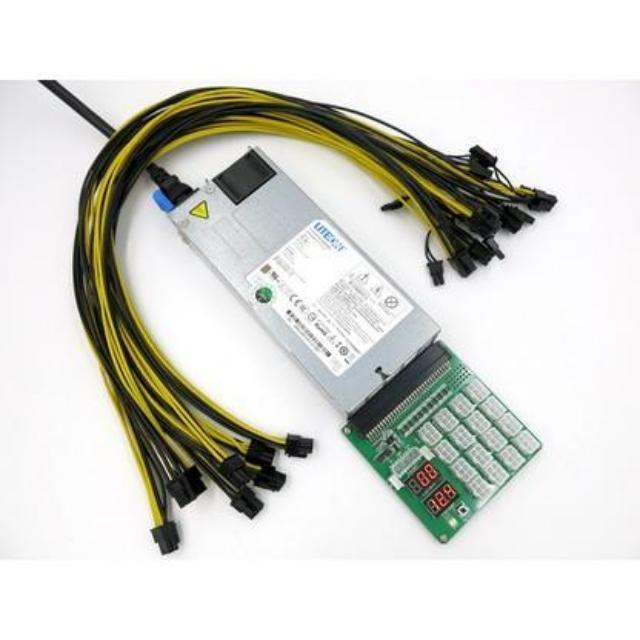PSU: (168, 129, 458, 451)
